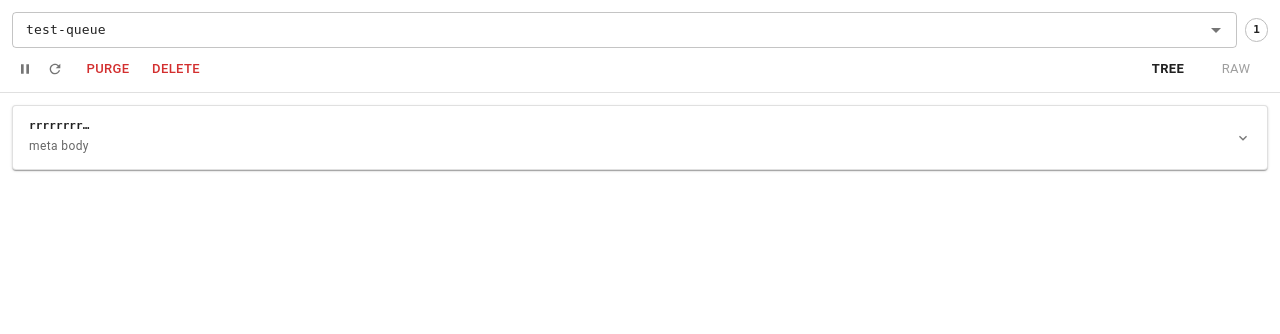
<QueueColumn /> › renders message metadata rows (Receive Count, Sender) when attributes are present
The width and height of the screenshot is (1280, 334).
Expand the accordion to see the details
Click the button "rrrrrrrr… meta body".
click(56, 126)  # box [13,106,1267,169]
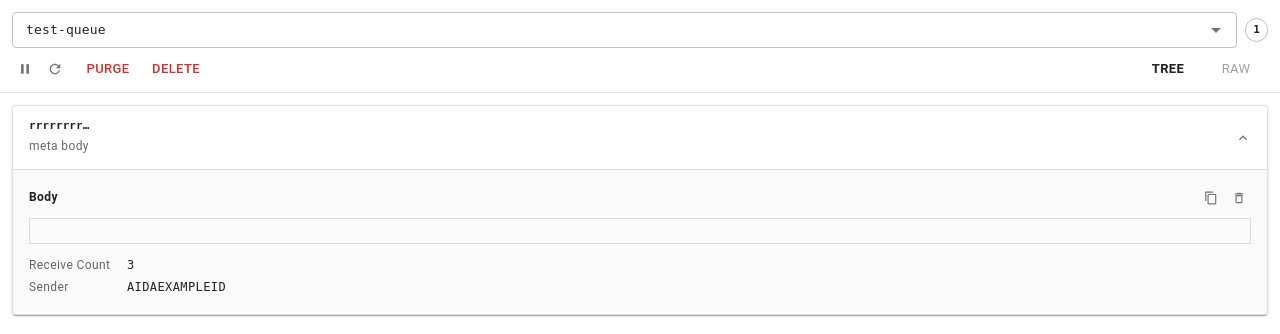
Now the text "Body" is shown, box [29,188,58,208]
Now the text "Receive Count" is shown, box [29,256,119,276]
Now the text "3" is shown, box [127,256,135,276]
